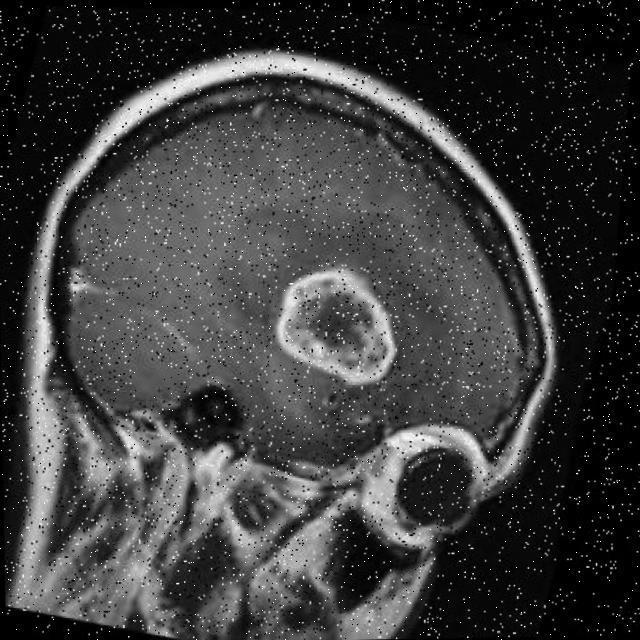LMCI: (186, 267, 434, 447)
